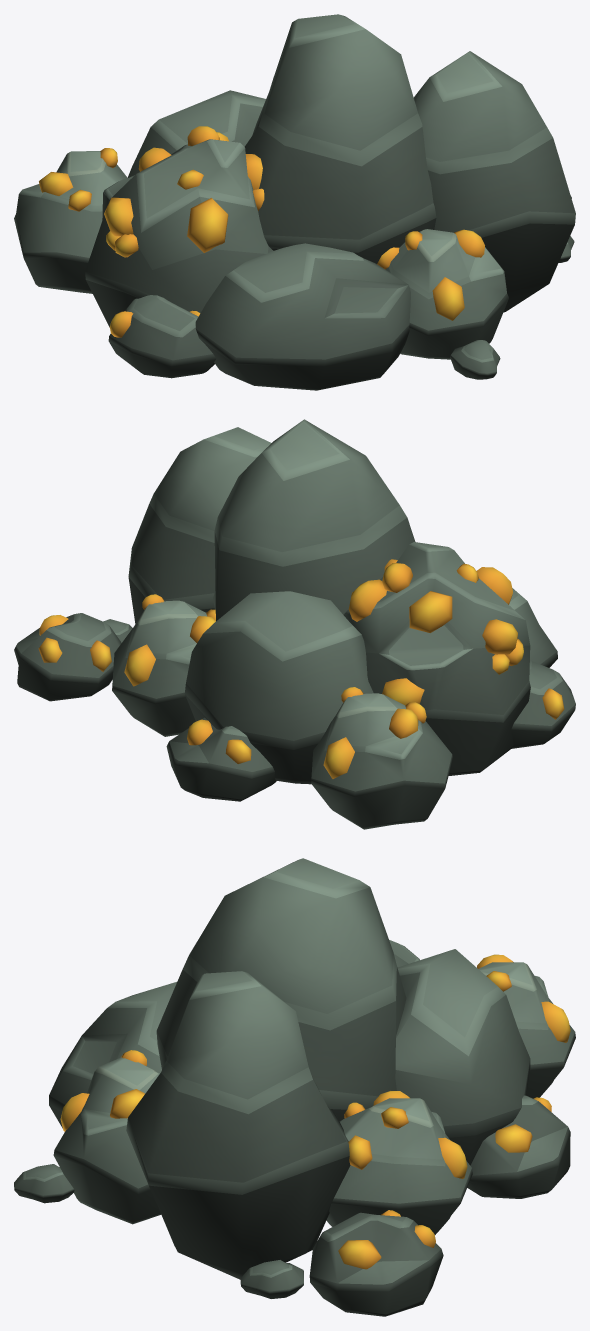
File: arangement_nugget_ore_L.fbx
3 views of the same model, one above another, from view 1: azimuth 30°, elevation 25°; view 2: azimuth 150°, elevation 25°; view 3: azimuth 270°, elevation 25° (orthographic). The views are drawn at different scales.
Parts seen in each view (by area): view 1: arangement_nugget_ore_L; view 2: arangement_nugget_ore_L; view 3: arangement_nugget_ore_L.
Part boxes in pixels (left/top/right/bottom): arangement_nugget_ore_L: left=14, top=14, right=575, bottom=390; arangement_nugget_ore_L: left=14, top=419, right=575, bottom=829; arangement_nugget_ore_L: left=14, top=858, right=575, bottom=1316.
Size of the model in its own units: 532 by 325 by 463.
Materials: 1 (1 with a texture image).
